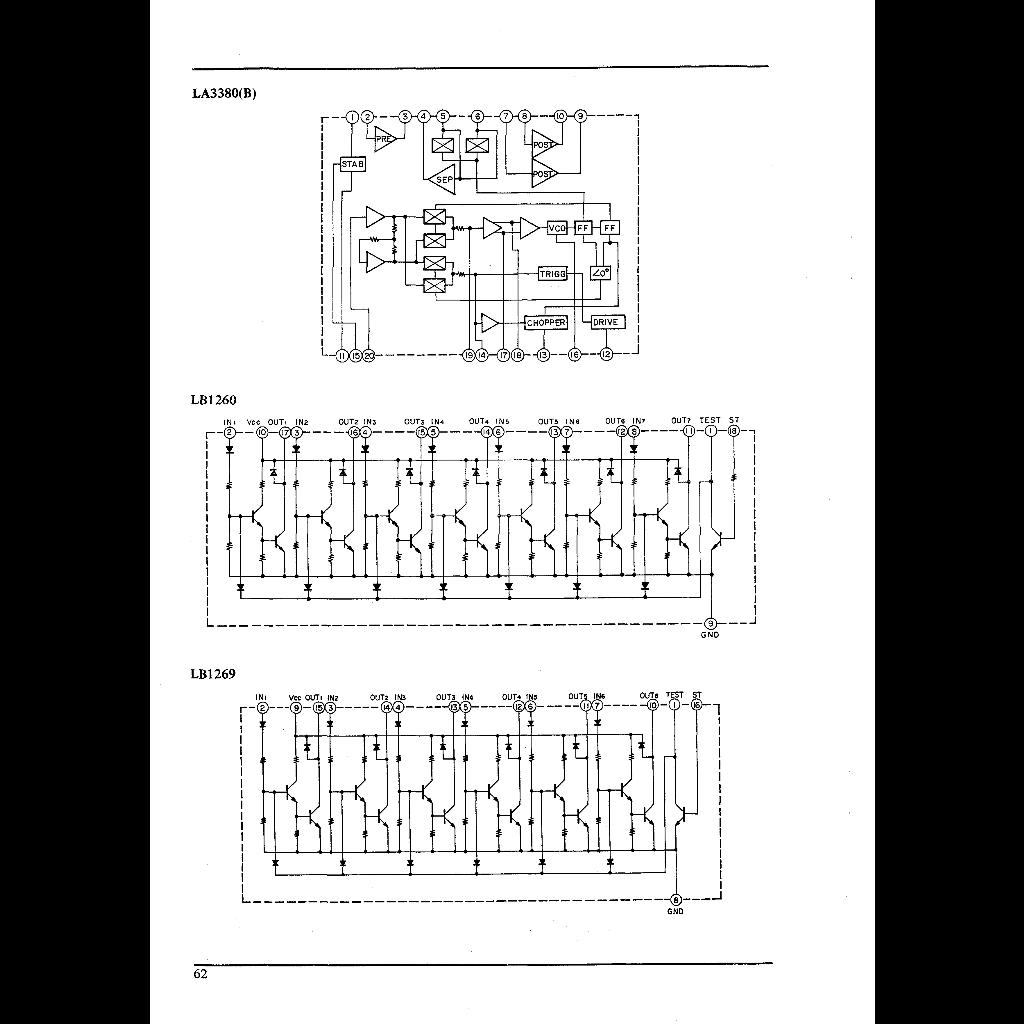Diagram: (196, 412, 776, 650), (218, 688, 742, 922), (309, 106, 659, 368)
